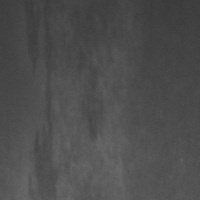inclusion: (22, 1, 57, 199), (75, 45, 104, 143)
